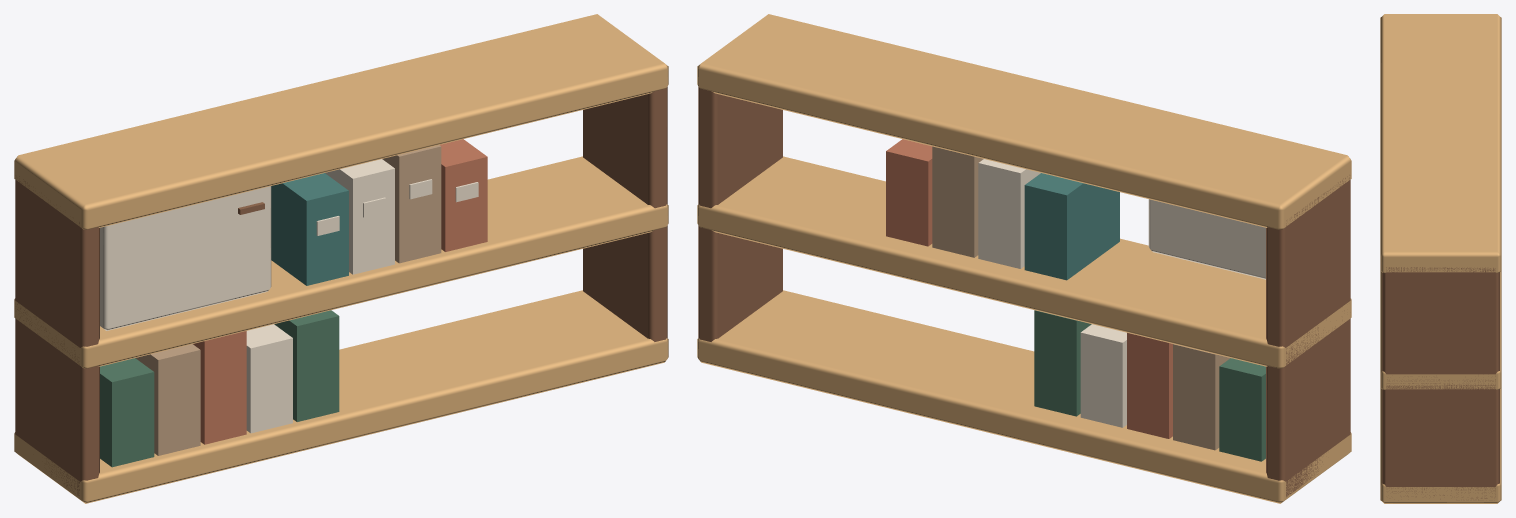
The model's file is kit_bookshelf_low_v1.glb.
3 views of the same model, side by side, from view 1: azimuth 30°, elevation 25°; view 2: azimuth 150°, elevation 25°; view 3: azimuth 270°, elevation 25° (orthographic). The views are drawn at different scales.
Parts seen in each view (by area): view 1: body; view 2: body; view 3: body.
Part boxes in pixels (left/top/right/bottom): body: left=14, top=14, right=668, bottom=503; body: left=697, top=14, right=1351, bottom=503; body: left=1380, top=14, right=1501, bottom=503.
Size of the model in its own units: 1.6 by 0.78 by 0.34.
